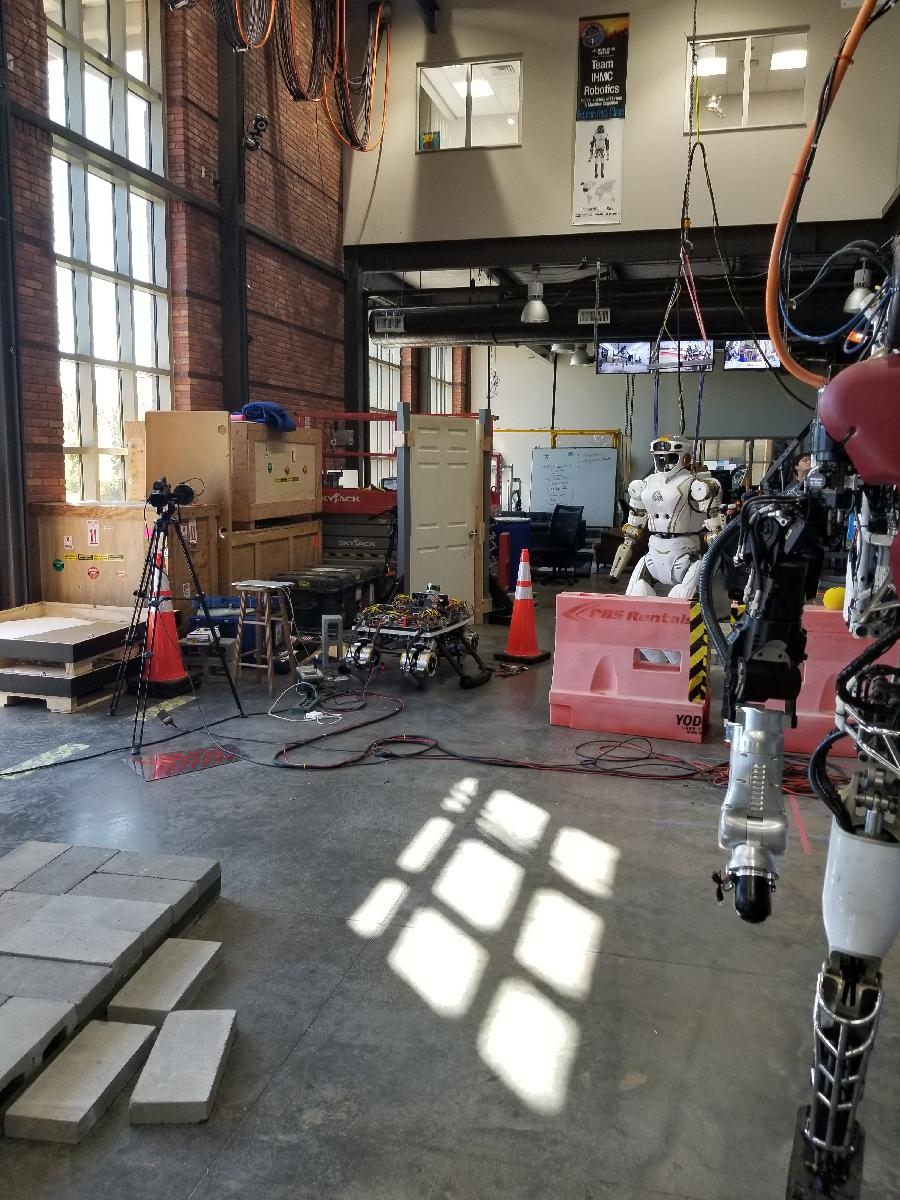door: (405, 410, 479, 638)
doorHandle: (463, 525, 476, 544)
